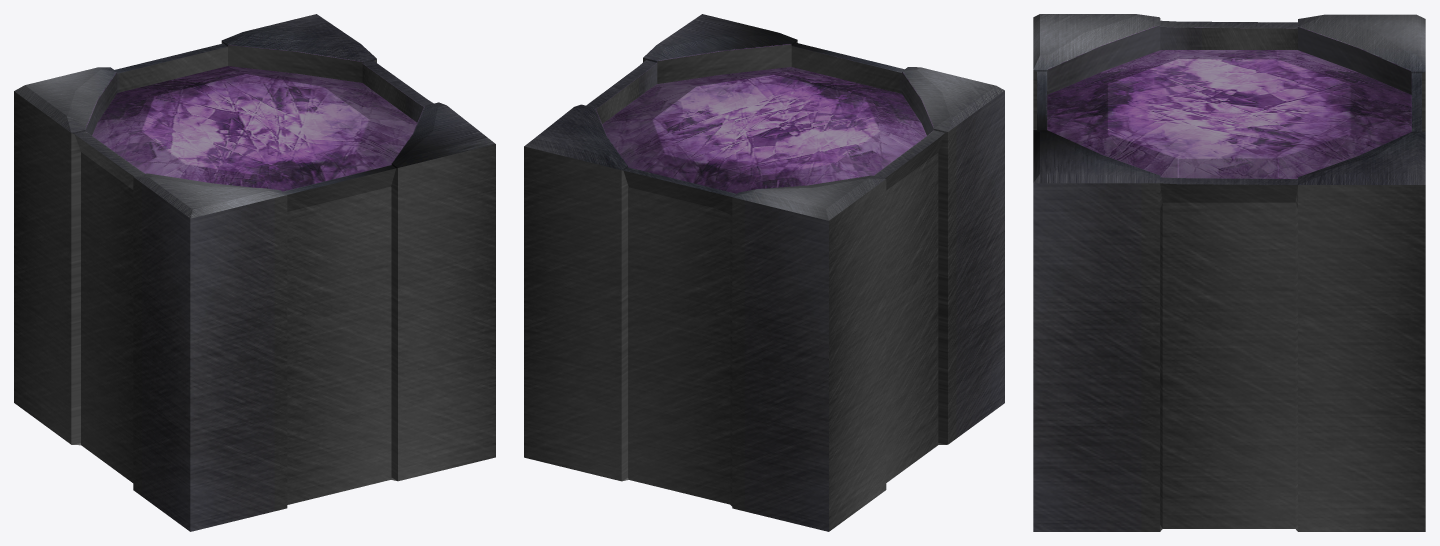
The model's file is WallCube.fbx.
3 views of the same model, side by side, from view 1: azimuth 30°, elevation 25°; view 2: azimuth 150°, elevation 25°; view 3: azimuth 270°, elevation 25° (orthographic). The views are drawn at different scales.
Parts seen in each view (by area): view 1: pasted__pCube2; view 2: pasted__pCube2; view 3: pasted__pCube2.
Boxes of the visible parts, left/top/right/bottom form: pasted__pCube2: left=14, top=14, right=495, bottom=531; pasted__pCube2: left=524, top=14, right=1004, bottom=531; pasted__pCube2: left=1033, top=14, right=1425, bottom=531.
Size of the model in its own units: 2 by 2 by 2.
